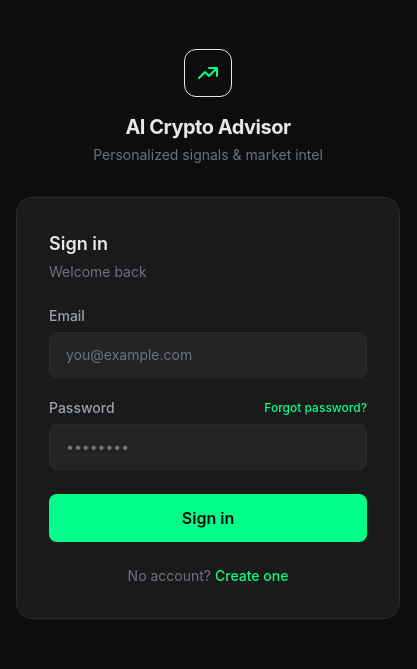
Test: shows API error message on failed login
In the field with placeholder "you@example.com": (208, 355) [49,332,367,378], type "a@b.com"
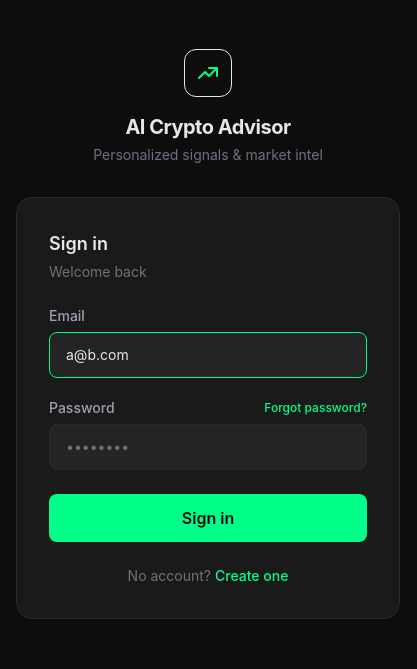
In the password field with placeholder "••••••••": (208, 447) [49,424,367,470], type "wrongpw"
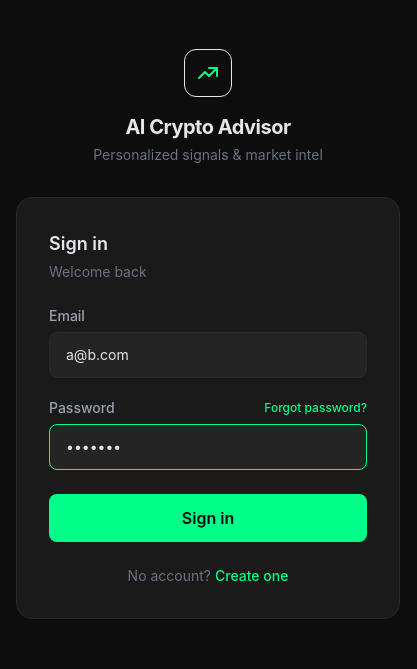
Click the button "Sign in": (208, 518) [49,494,367,542]
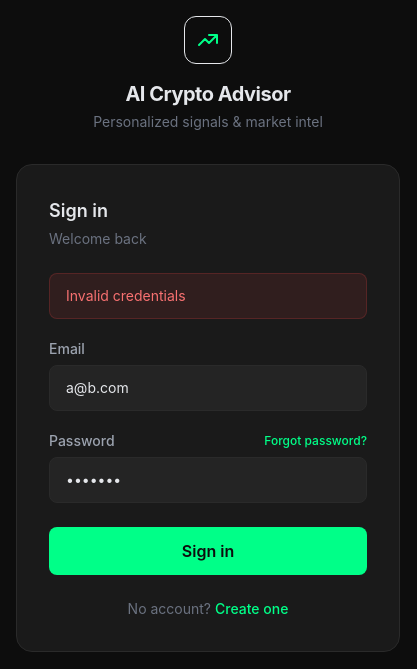
Result: the text "Invalid credentials" is shown at [49,273,367,319]
